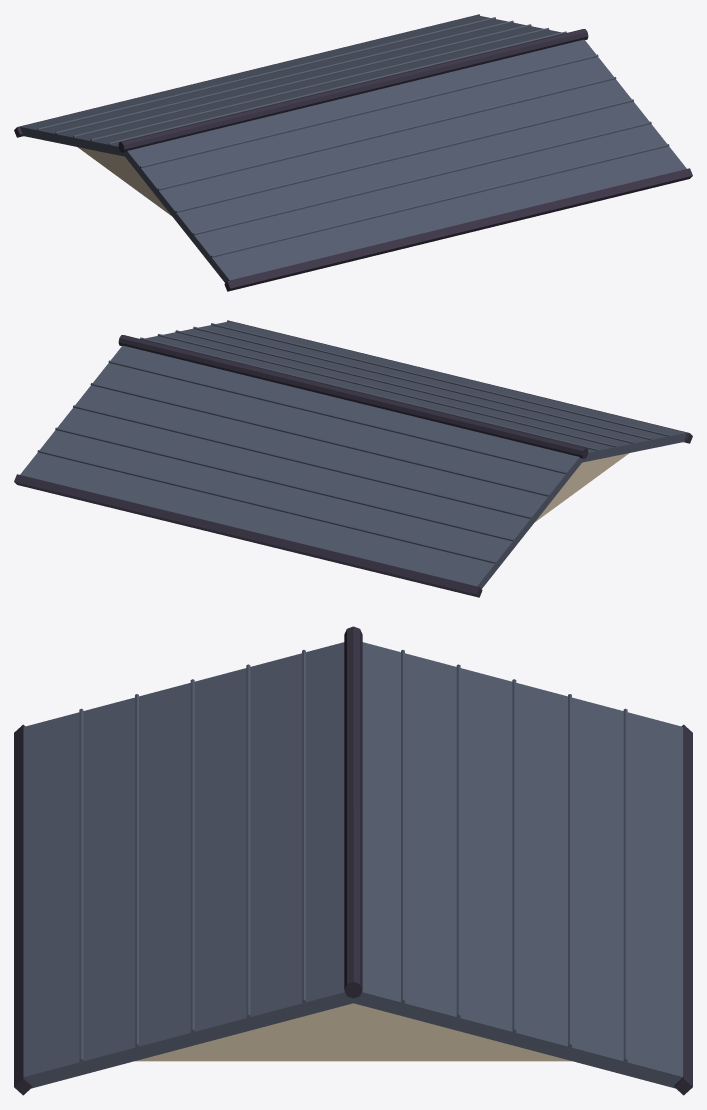
File: SM_Ramen_Roof.fbx
3 renders of one model, top to bottom at view 1: azimuth 30°, elevation 25°; view 2: azimuth 150°, elevation 25°; view 3: azimuth 270°, elevation 25°, orthographic. The views are drawn at different scales.
Parts seen in each view (by area): view 1: SM_Ramen_Roof; view 2: SM_Ramen_Roof; view 3: SM_Ramen_Roof.
Part boxes in pixels (x1,y1,x2,y2): SM_Ramen_Roof: [14, 14, 692, 291]; SM_Ramen_Roof: [14, 320, 692, 597]; SM_Ramen_Roof: [14, 626, 692, 1095].
Size of the model in its own units: 6.8 by 5.49 by 1.02.
